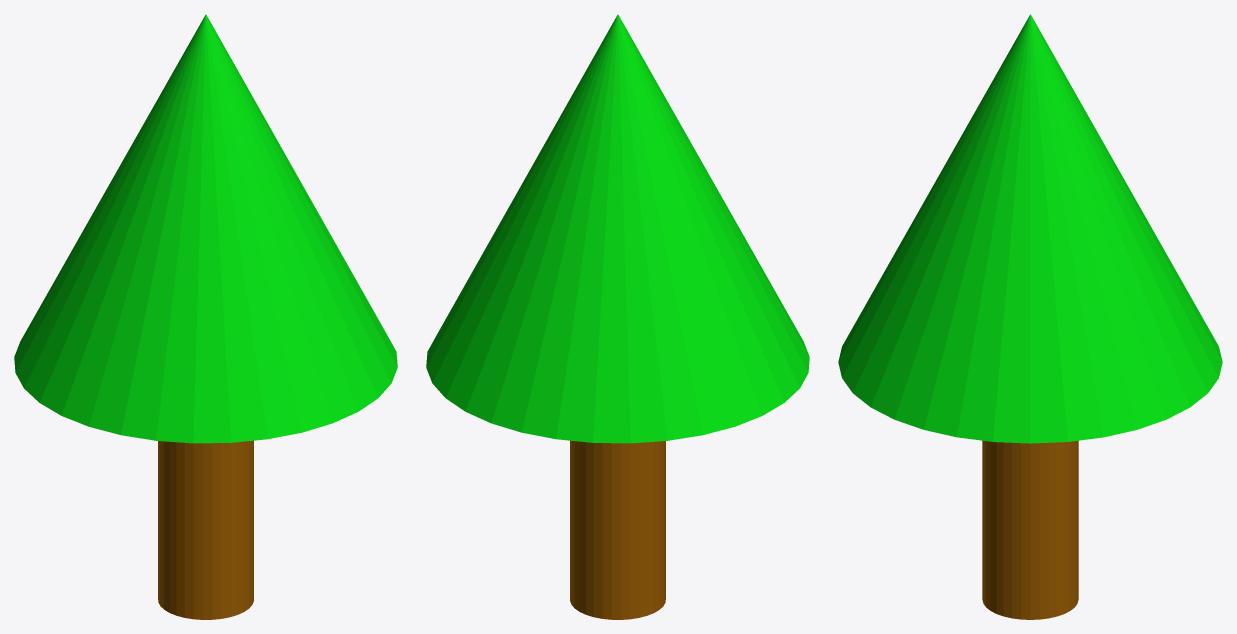
Rendered from arbolF.fbx.
3 renders of one model, left to right at view 1: azimuth 30°, elevation 25°; view 2: azimuth 150°, elevation 25°; view 3: azimuth 270°, elevation 25°, orthographic.
Parts seen in each view (by area): view 1: Cone, Cylinder; view 2: Cone, Cylinder; view 3: Cone, Cylinder.
Boxes of the visible parts, x1,y1,x2,y2 form: Cone: (14,14,397,443); Cylinder: (158,440,253,619); Cone: (426,14,809,443); Cylinder: (570,440,665,619); Cone: (838,14,1222,443); Cylinder: (982,440,1078,619).
Size of the model in its own units: 400 by 673 by 400.
